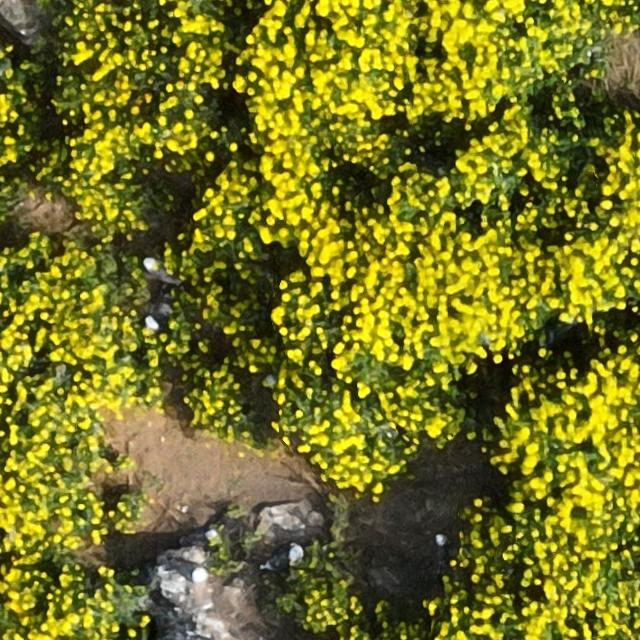umineko: (146, 297, 172, 329), (143, 258, 173, 284), (263, 548, 295, 570), (177, 564, 206, 582), (434, 537, 447, 563)
